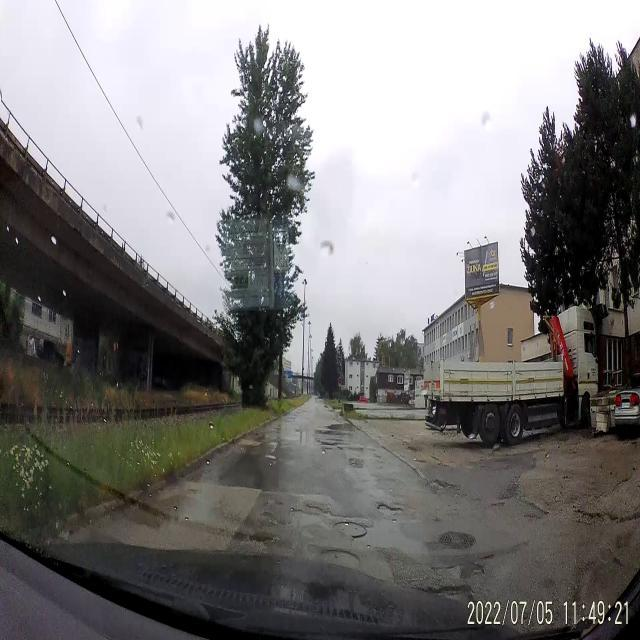Manhole: (314, 538, 366, 574), (438, 522, 480, 554), (326, 513, 374, 541)
Pothole: (430, 562, 482, 584), (291, 498, 327, 524), (376, 497, 404, 525), (425, 472, 456, 494)
